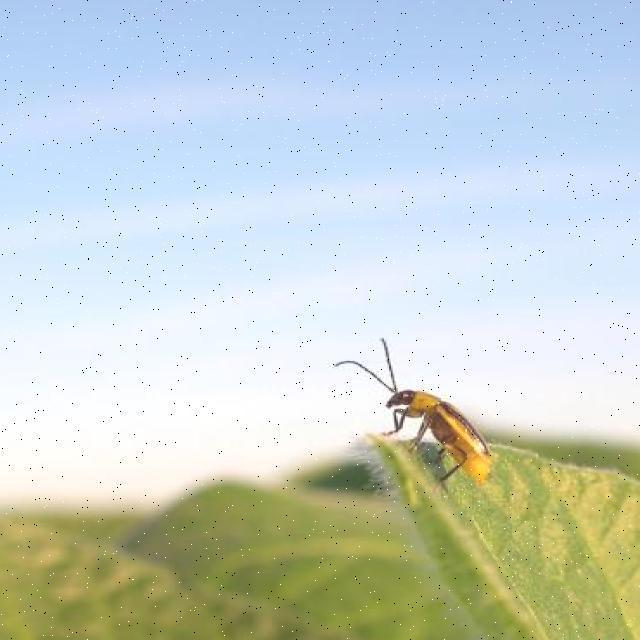trips: (342, 334, 512, 487)
